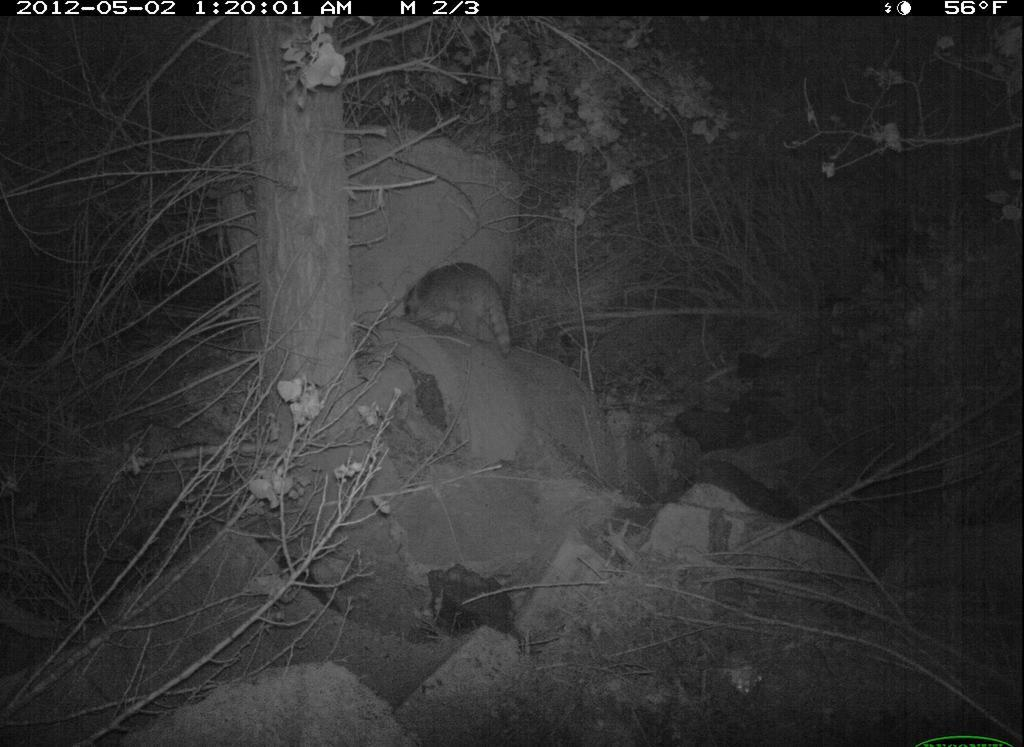raccoon: (399, 257, 521, 359)
